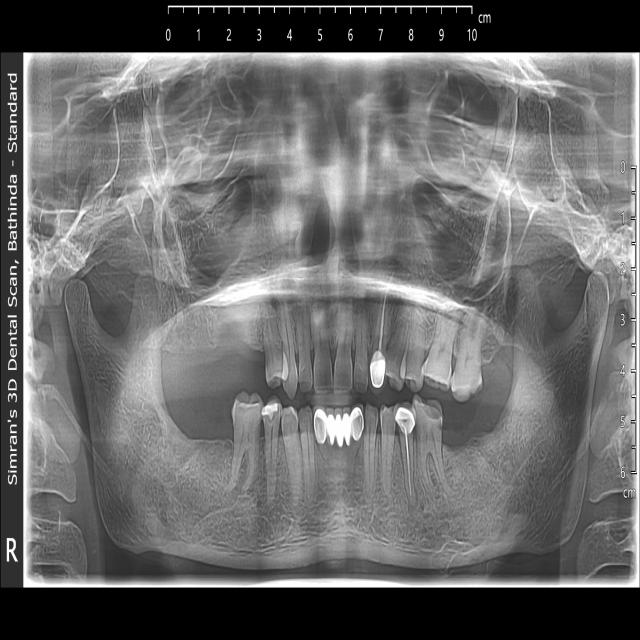Caries: (229, 393, 262, 440), (265, 343, 288, 388), (416, 394, 443, 421)
Crown: (314, 406, 364, 447)
Filling: (261, 402, 278, 421)
Missing teeth: (183, 311, 263, 367), (181, 407, 234, 448), (446, 414, 488, 452)
Root Canal Treatment: (370, 268, 393, 388), (395, 401, 417, 505)
